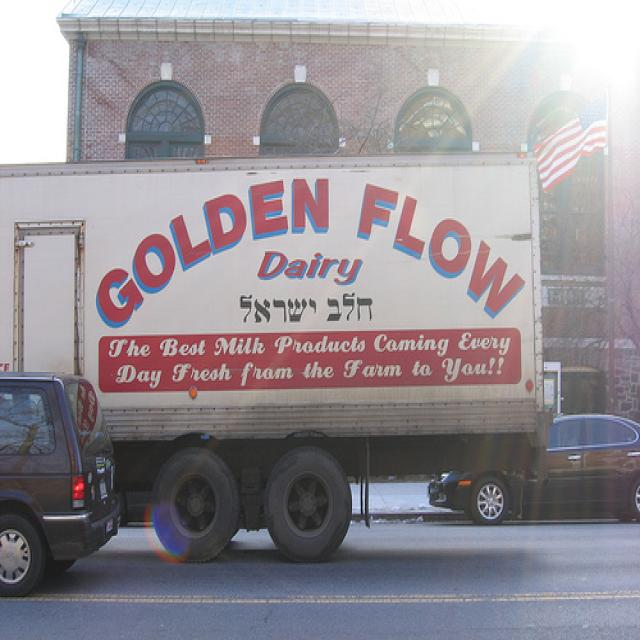car: (1, 368, 125, 600), (423, 409, 640, 528)
